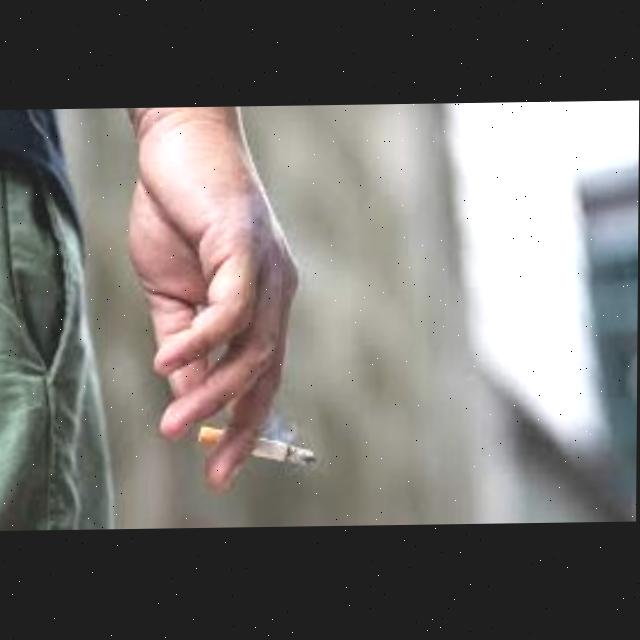cigarette: (198, 423, 317, 469)
